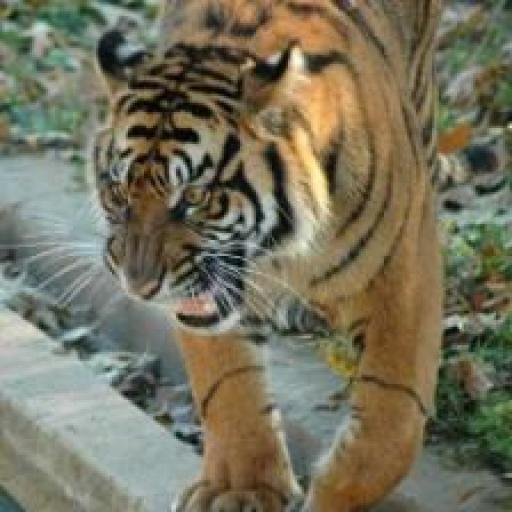Tiger: (88, 0, 448, 512)
